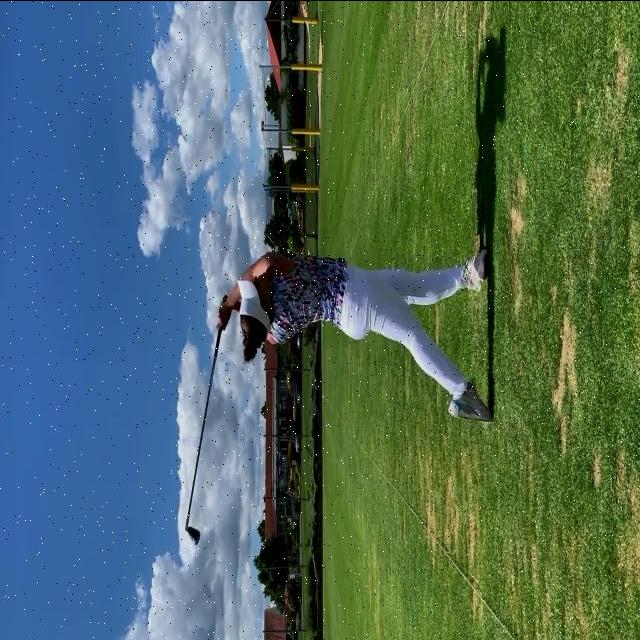golf club-handle: (185, 291, 228, 544)
golf club-head: (185, 522, 201, 545)
